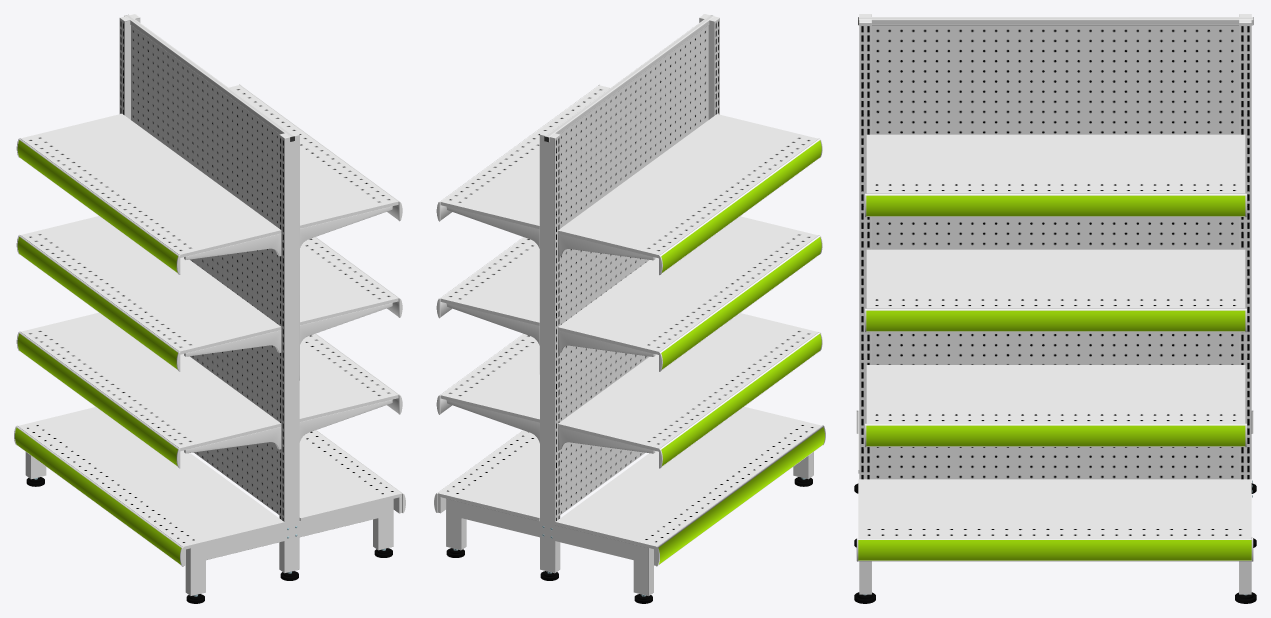
Rendered from shelf.fbx.
The picture shows the model from 3 angles, left to right: view 1: azimuth 30°, elevation 25°; view 2: azimuth 150°, elevation 25°; view 3: azimuth 270°, elevation 25°; orthographic projection. The views are drawn at different scales.
Visible parts, largest first — view 1: grocery_shelf_base.001; view 2: grocery_shelf_base.001; view 3: grocery_shelf_base.001.
Part boxes in pixels (bbox=[...]): grocery_shelf_base.001: bbox=[14, 14, 405, 603]; grocery_shelf_base.001: bbox=[434, 14, 825, 603]; grocery_shelf_base.001: bbox=[854, 14, 1256, 603].
Size of the model in its own units: 73.26 by 137 by 95.14.
